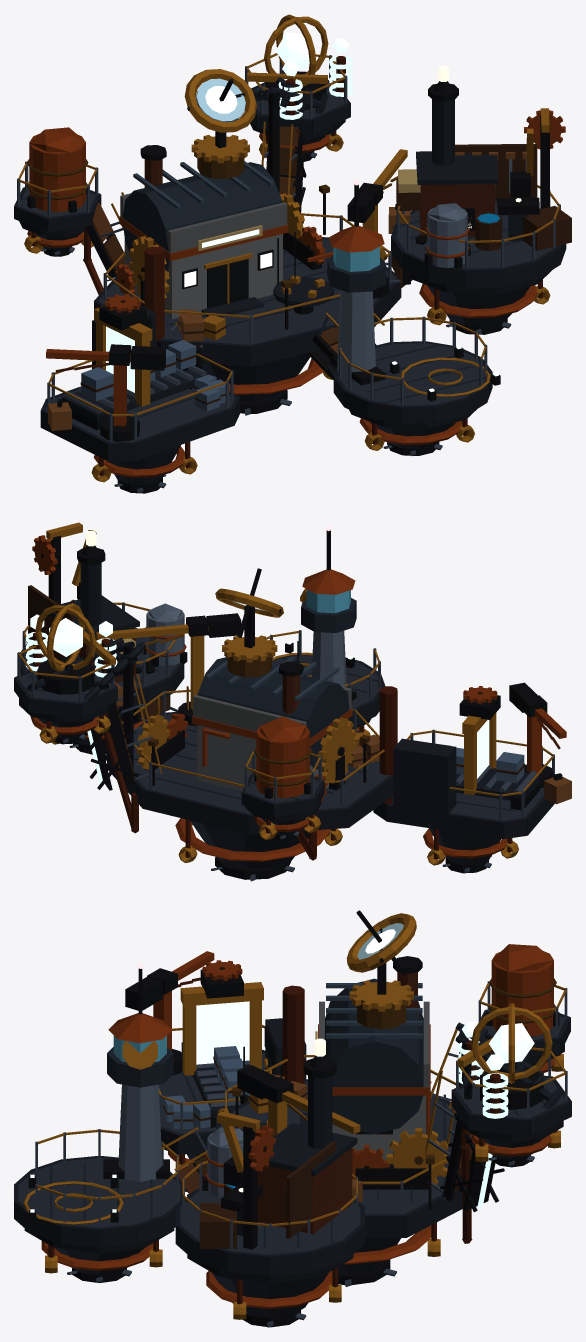
Rendered from tools-v1.glb.
3 views of the same model, one above another, from view 1: azimuth 30°, elevation 25°; view 2: azimuth 150°, elevation 25°; view 3: azimuth 270°, elevation 25° (orthographic). The views are drawn at different scales.
Parts seen in each view (by area): view 1: TOOLS_TERRAIN, TOOLS_DECORATIONS_STATIC, WORKSHOP_HALL, FORGE_STATION, REPLICATOR_BAY, CONTROL_TOWER, TOOLS_ACCENTS_GLOW, TOOLS_CATWALK_MAIN_POWER, TOOLS_CATWALK_MAIN_SPARE, TOOLS_BRIDGE_MAIN_DOCK; view 2: TOOLS_TERRAIN, TOOLS_DECORATIONS_STATIC, WORKSHOP_HALL, REPLICATOR_BAY, FORGE_STATION, CONTROL_TOWER, TOOLS_ACCENTS_GLOW, TOOLS_CATWALK_MAIN_POWER, TOOLS_BRIDGE_MAIN_FORGE; view 3: TOOLS_TERRAIN, TOOLS_DECORATIONS_STATIC, WORKSHOP_HALL, FORGE_STATION, REPLICATOR_BAY, CONTROL_TOWER, TOOLS_ACCENTS_GLOW, TOOLS_CATWALK_MAIN_POWER, TOOLS_BRIDGE_MAIN_DOCK.
Boxes of the visible parts, box(x1,y1,x2,y2) form: TOOLS_TERRAIN: box(14, 53, 566, 493); TOOLS_DECORATIONS_STATIC: box(26, 14, 571, 441); WORKSHOP_HALL: box(115, 69, 288, 319); FORGE_STATION: box(396, 81, 565, 251); REPLICATOR_BAY: box(62, 246, 209, 430); CONTROL_TOWER: box(327, 184, 387, 385); TOOLS_ACCENTS_GLOW: box(106, 32, 521, 392); TOOLS_CATWALK_MAIN_POWER: box(261, 121, 306, 223); TOOLS_CATWALK_MAIN_SPARE: box(85, 192, 124, 278); TOOLS_BRIDGE_MAIN_DOCK: box(307, 313, 384, 379); TOOLS_TERRAIN: box(14, 602, 554, 881); TOOLS_DECORATIONS_STATIC: box(27, 599, 571, 860); WORKSHOP_HALL: box(192, 568, 356, 801); REPLICATOR_BAY: box(379, 686, 539, 814); FORGE_STATION: box(28, 522, 154, 682); CONTROL_TOWER: box(300, 530, 356, 700); TOOLS_ACCENTS_GLOW: box(25, 525, 489, 785); TOOLS_CATWALK_MAIN_POWER: box(81, 674, 162, 790); TOOLS_BRIDGE_MAIN_FORGE: box(133, 686, 188, 723); TOOLS_TERRAIN: box(14, 981, 571, 1327); TOOLS_DECORATIONS_STATIC: box(23, 944, 564, 1248); WORKSHOP_HALL: box(300, 910, 431, 1160); FORGE_STATION: box(217, 1055, 357, 1249); REPLICATOR_BAY: box(180, 960, 306, 1127); CONTROL_TOWER: box(103, 968, 173, 1181); TOOLS_ACCENTS_GLOW: box(30, 929, 534, 1212); TOOLS_CATWALK_MAIN_POWER: box(425, 1070, 504, 1212); TOOLS_BRIDGE_MAIN_DOCK: box(161, 1127, 207, 1195).
Bounding box in the file's own units: 9.26 × 5.24 × 7.51.
